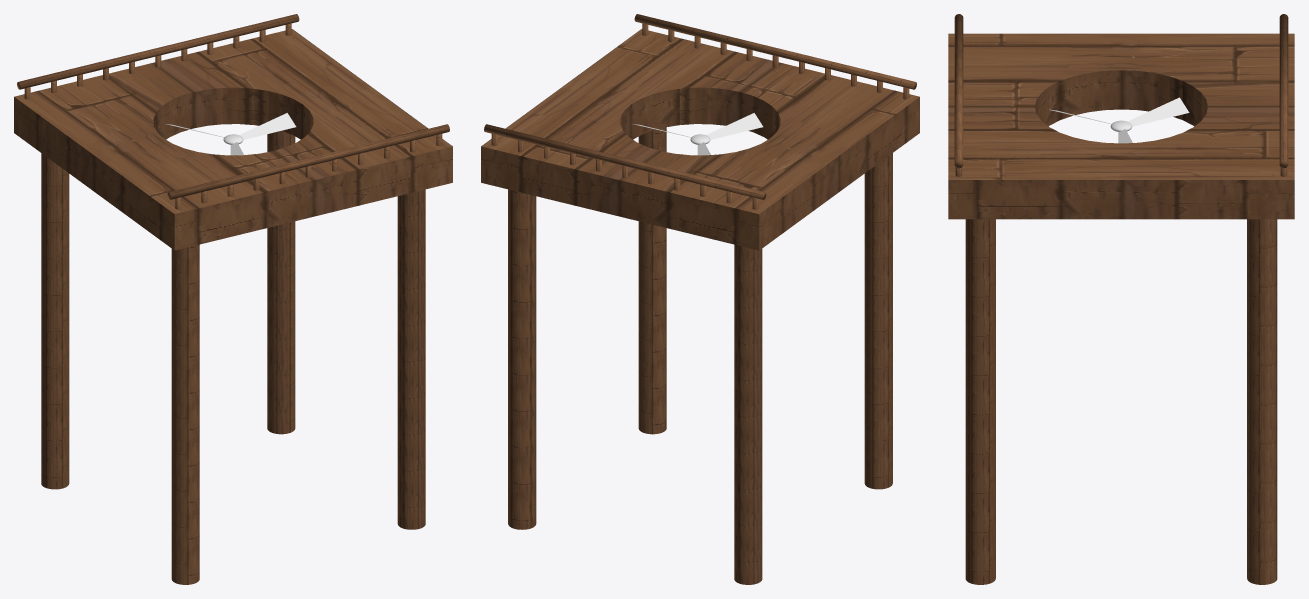
Rendered from Propeller16.fbx.
The picture shows the model from 3 angles, left to right: view 1: azimuth 30°, elevation 25°; view 2: azimuth 150°, elevation 25°; view 3: azimuth 270°, elevation 25°; orthographic projection. The views are drawn at different scales.
Parts seen in each view (by area): view 1: Cube, pillar.004, blade.002; view 2: Cube, pillar.004, blade.000; view 3: Cube, pillar.004, blade.001.
Boxes of the visible parts, x1,y1,x2,y2 form: Cube: (14, 29, 452, 250); pillar.004: (17, 14, 449, 584); blade.002: (239, 113, 296, 139); Cube: (481, 29, 919, 250); pillar.004: (484, 14, 916, 584); blade.000: (706, 113, 763, 139); Cube: (948, 33, 1294, 219); pillar.004: (954, 14, 1288, 584); blade.001: (1127, 97, 1189, 126).
Bounding box in the file's own units: 1600 × 2200 × 1600.
